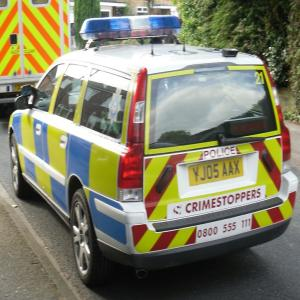Vehicle-registration-plate: (180, 156, 255, 201)
